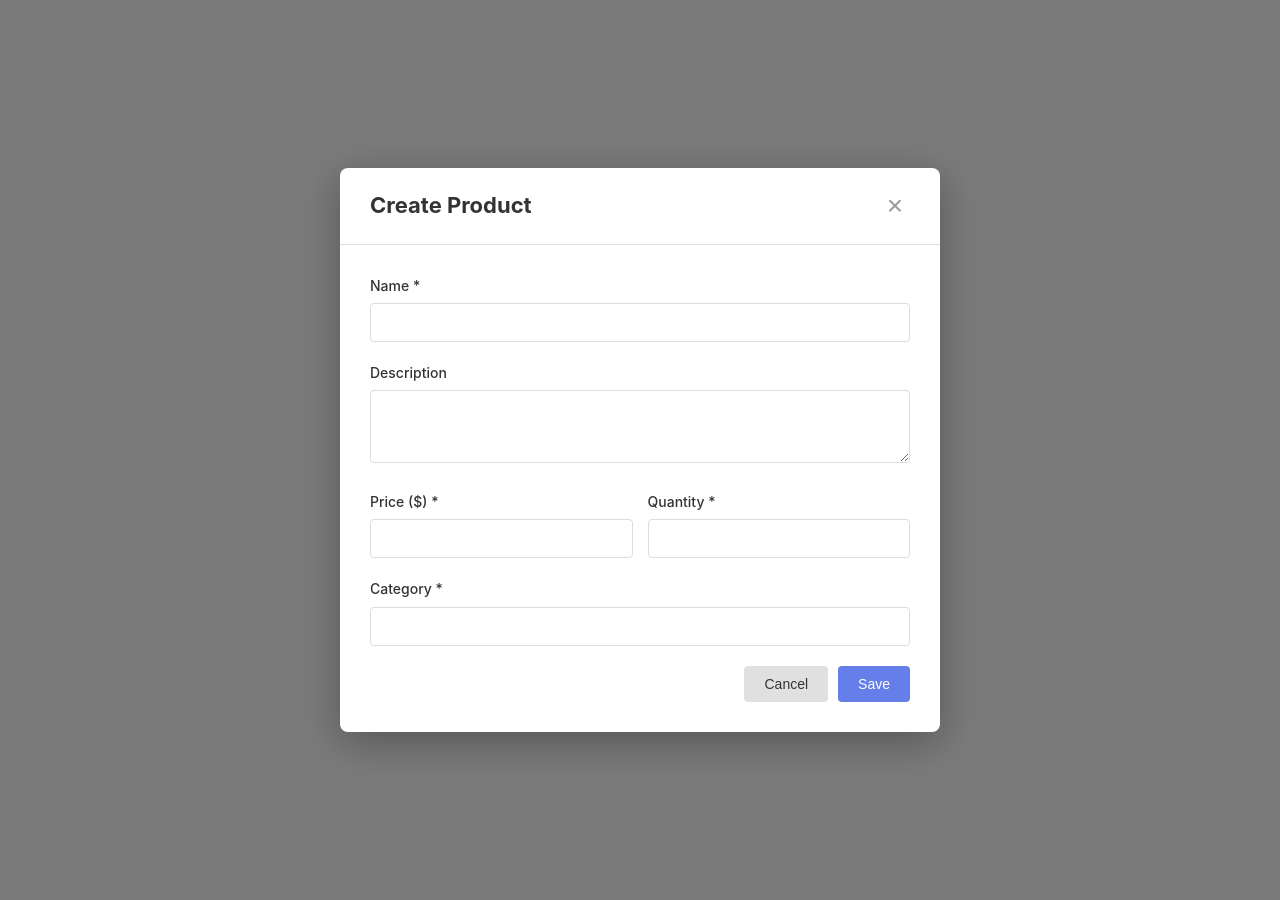
Scenario: ProductModal › should validate price is greater than 0
Step 1. Type "Test Product" into the field labelled "Name *" → [640, 322], box [370,303,910,342]
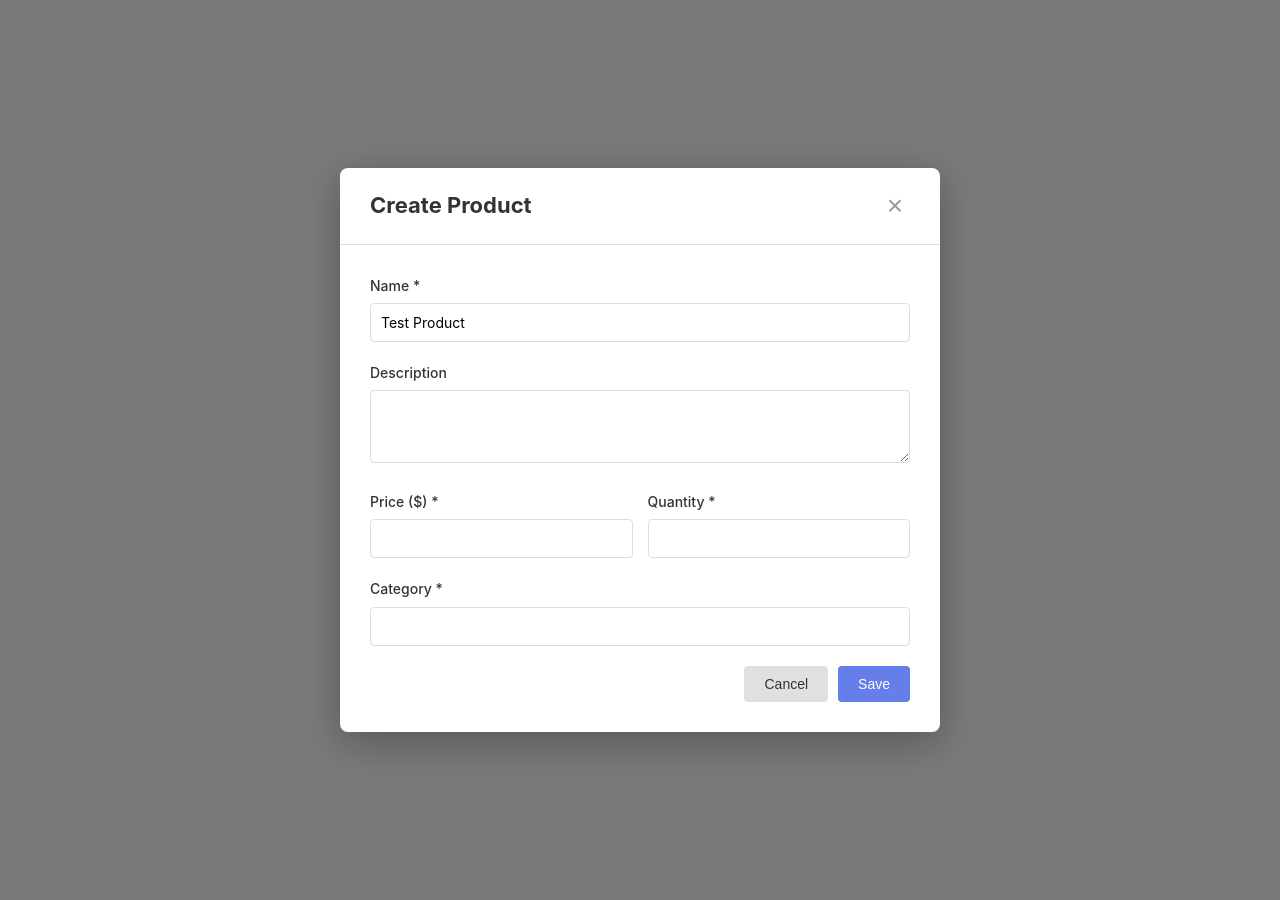
Step 2. Type "10" into the number field labelled "Quantity *" → [779, 539], box [648,519,910,558]
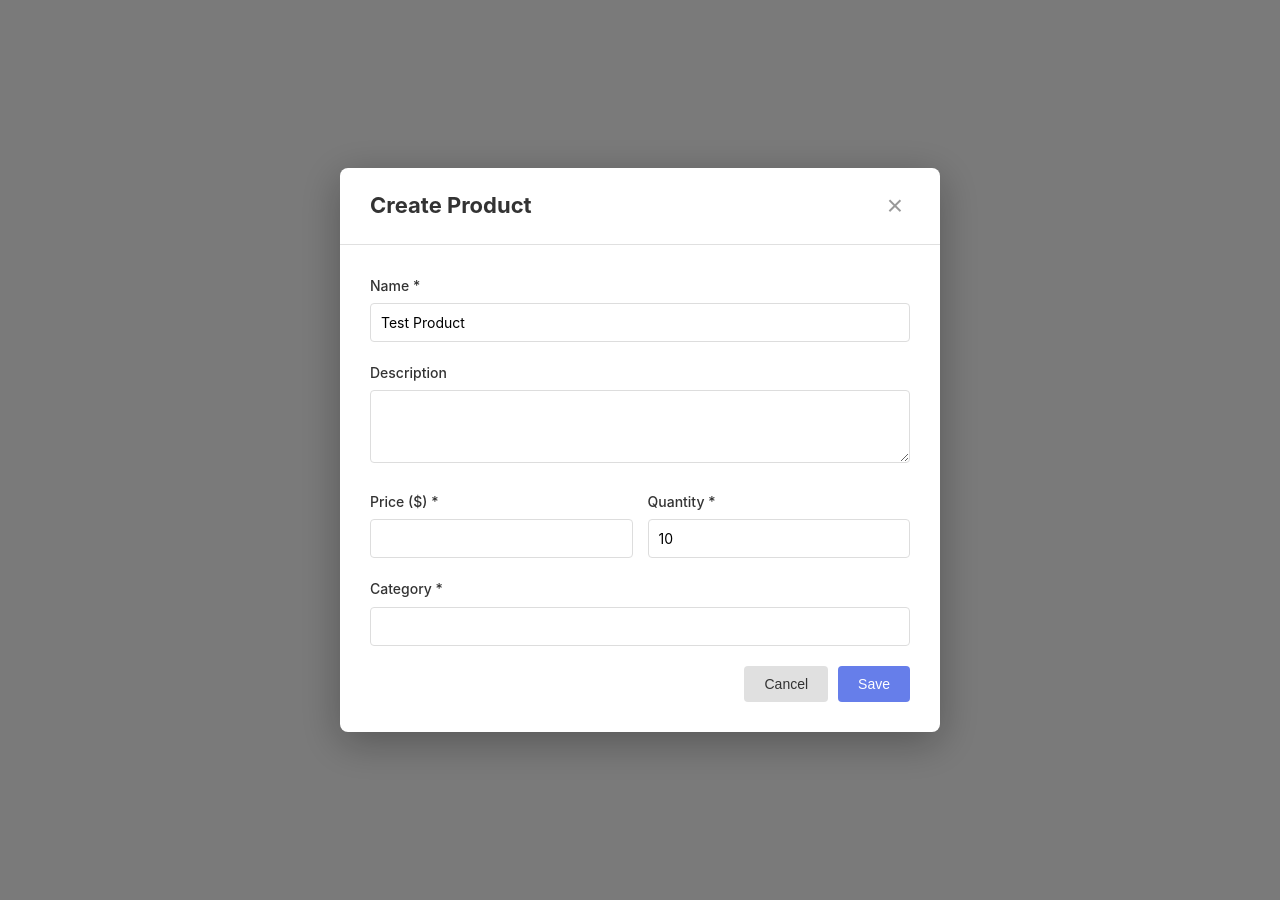
Step 3. Type "Test" into the field labelled "Category *" → [640, 626], box [370,607,910,646]
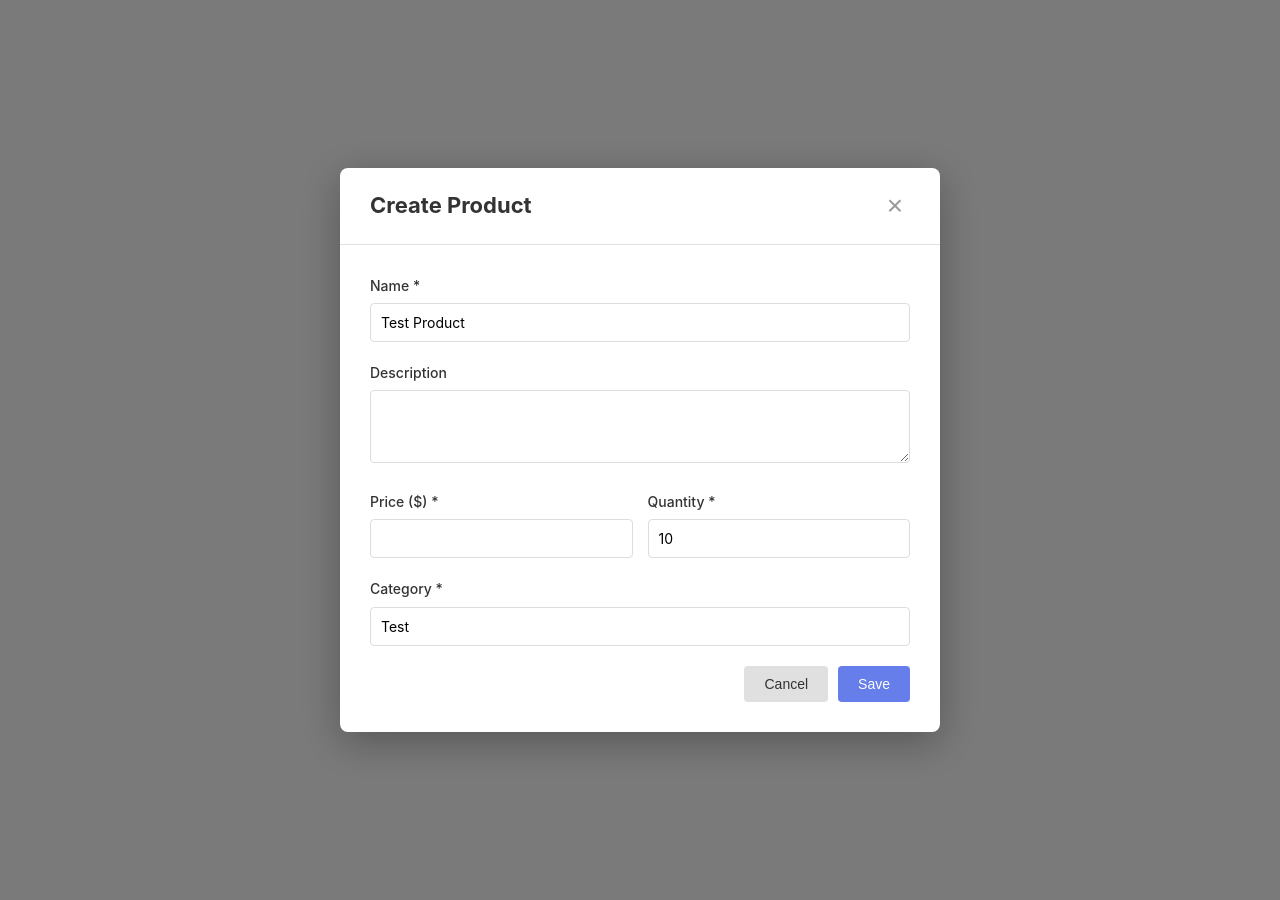
Step 4. Click the button "Save" → [874, 684], box [838,666,910,702]
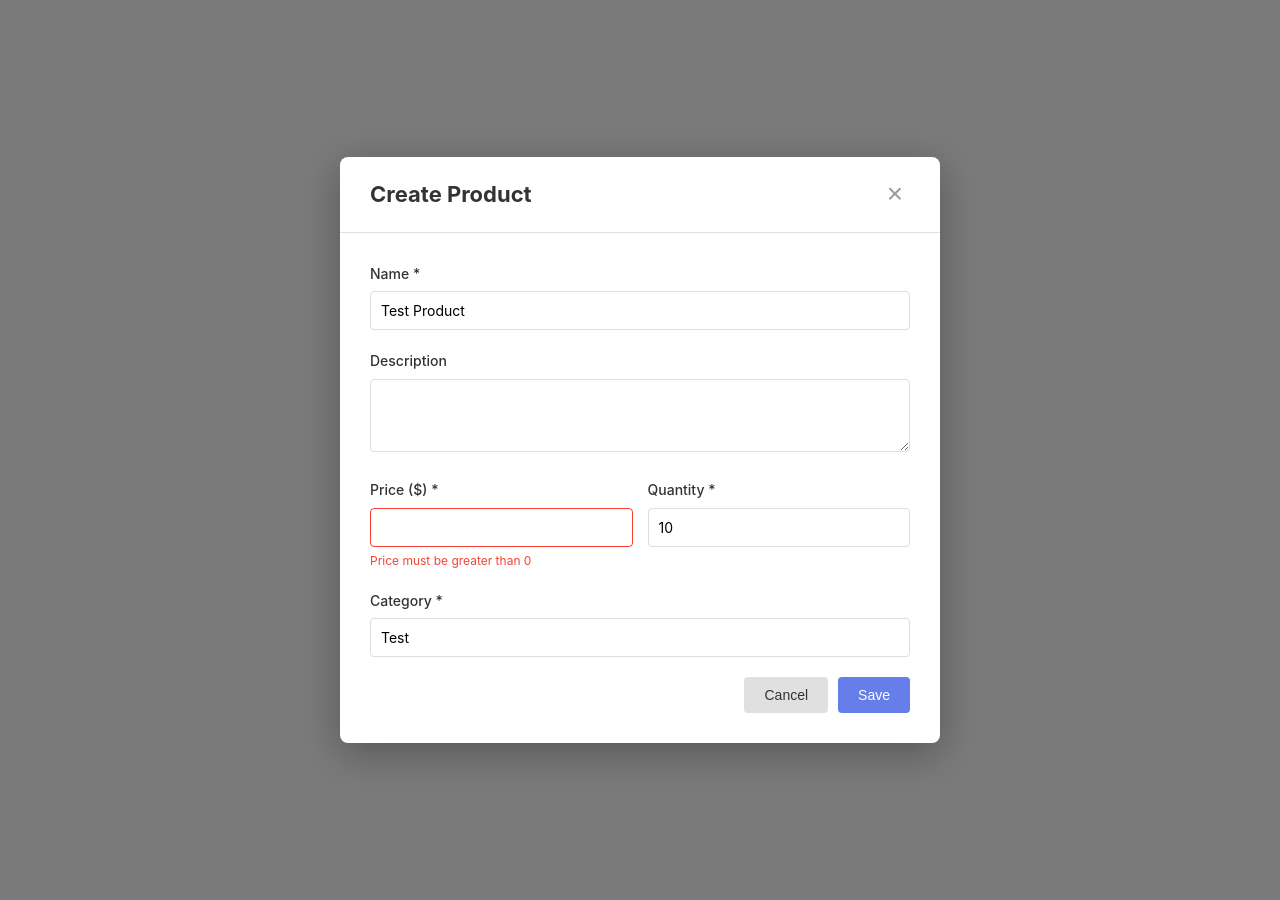
Result: the text "Price must be greater than 0" is shown at [370,553,531,568]
